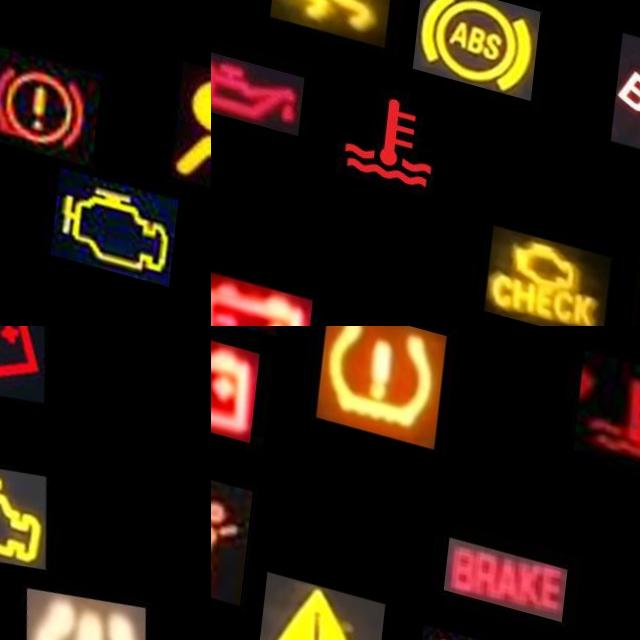Central Warning lamp: (266, 559, 392, 640)
Engine cooling system: (332, 55, 461, 198), (576, 326, 640, 448)
